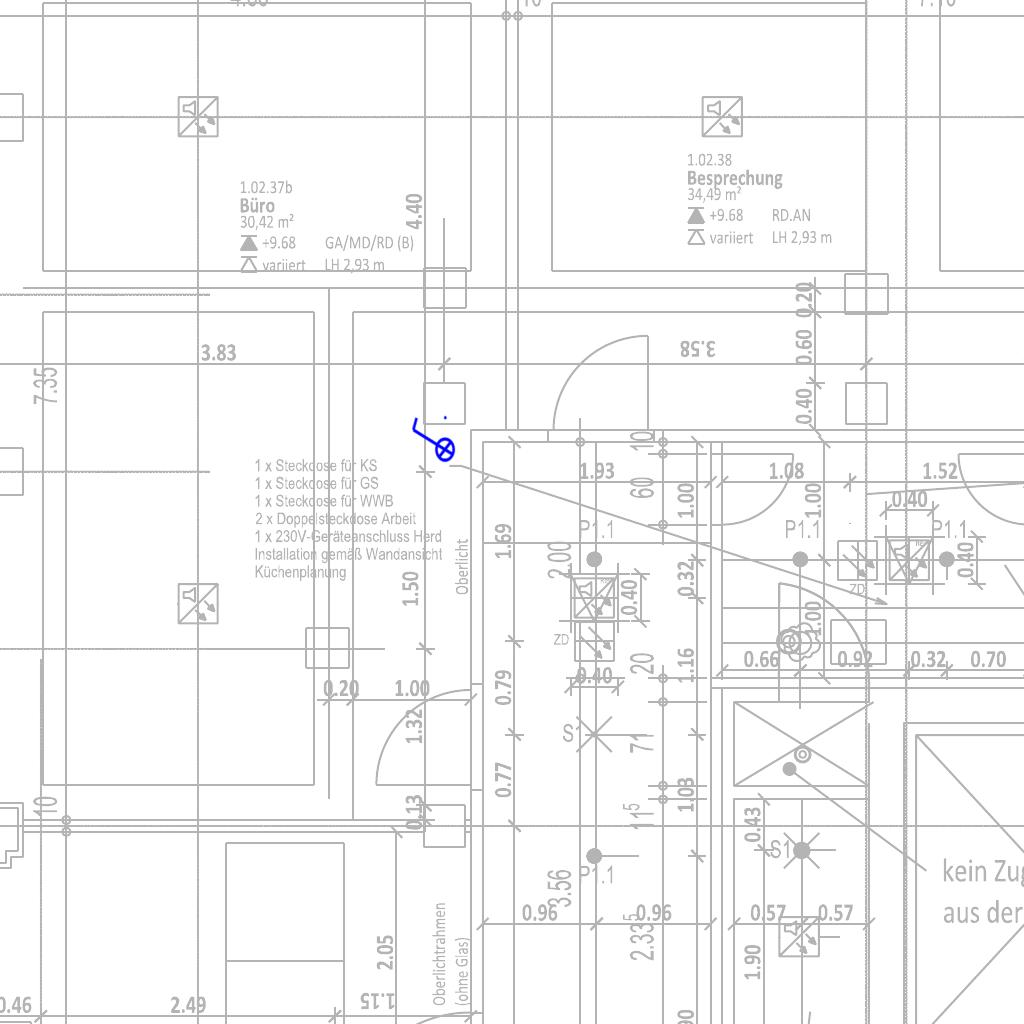Ausschalter_beleuchtet: (408, 413, 456, 469)
